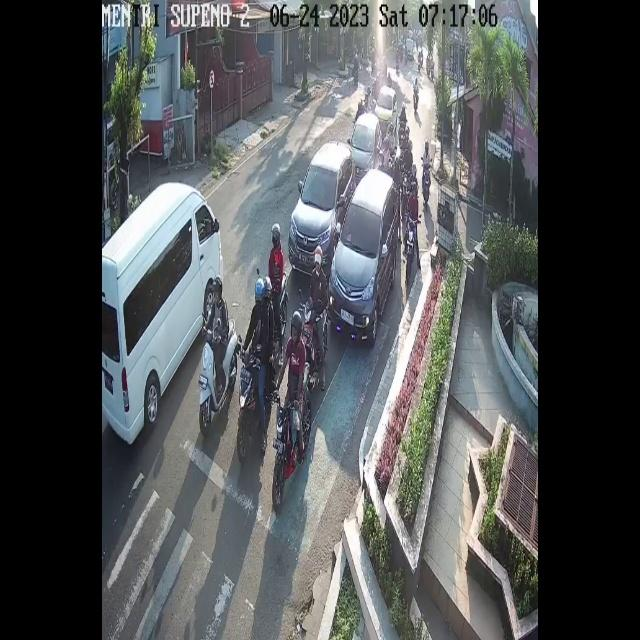bus: (234, 343, 274, 463), (276, 383, 314, 505), (198, 319, 238, 434), (303, 292, 328, 373), (404, 214, 420, 294), (269, 274, 286, 337), (422, 163, 431, 204), (402, 164, 416, 188)
car: (102, 182, 223, 447)
motorcycle: (336, 170, 400, 335), (289, 140, 355, 282), (350, 112, 381, 178), (376, 87, 397, 129)
